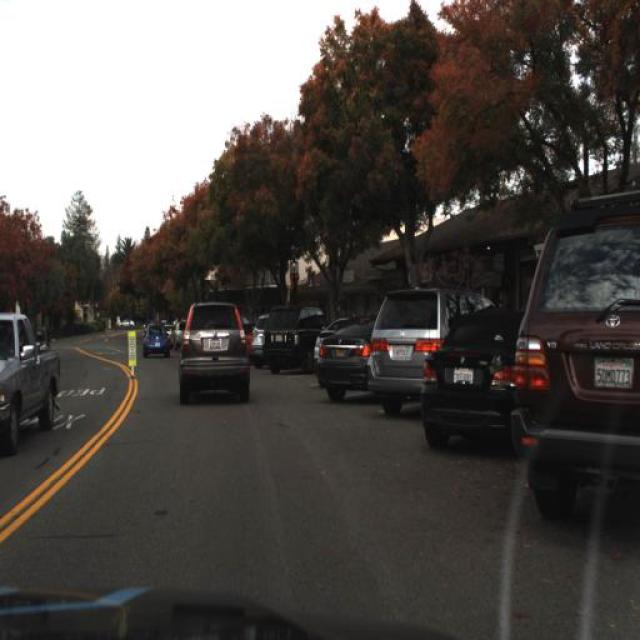car: (516, 190, 640, 526), (414, 296, 521, 458), (365, 285, 446, 423), (0, 310, 61, 460), (173, 298, 256, 408), (313, 304, 371, 404), (258, 306, 328, 375), (140, 320, 174, 361), (251, 314, 267, 370)
